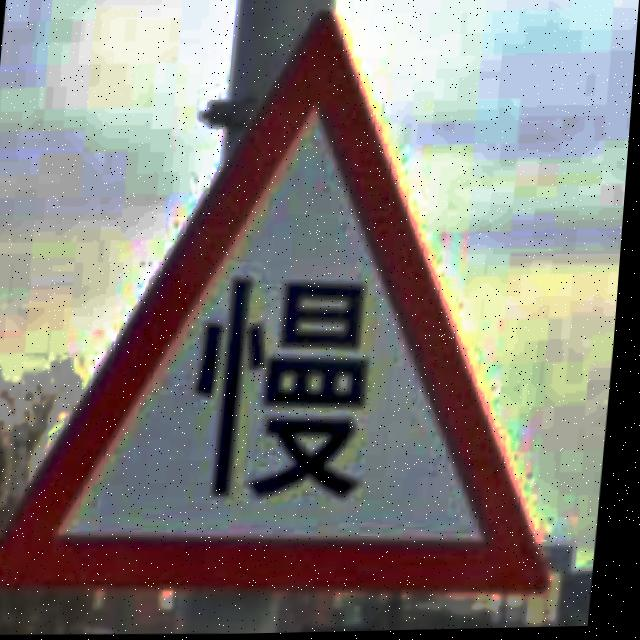slow: (0, 12, 560, 594)
